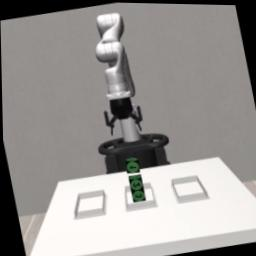cube1: (123, 157, 140, 174)
cube2: (128, 174, 143, 190)
cube3: (131, 188, 145, 202)
